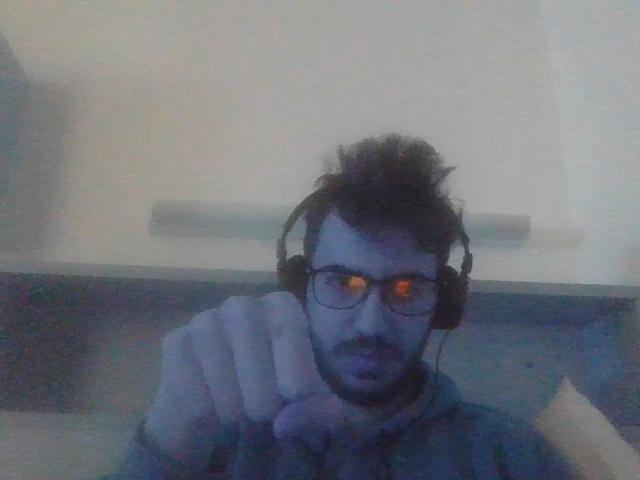yes: (162, 291, 338, 438)
